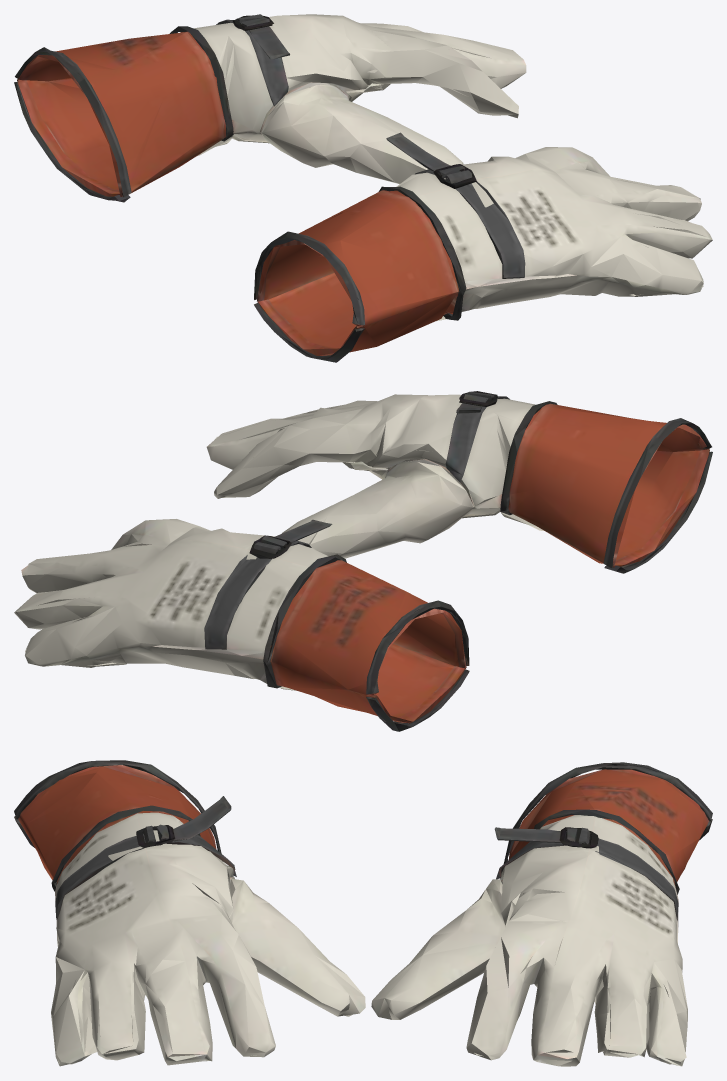
Rendered from p_gloves.glb.
3 renders of one model, top to bottom at view 1: azimuth 30°, elevation 25°; view 2: azimuth 150°, elevation 25°; view 3: azimuth 270°, elevation 25°, orthographic. The views are drawn at different scales.
Parts seen in each view (by area): view 1: p_gloves_mesh; view 2: p_gloves_mesh; view 3: p_gloves_mesh.
Part boxes in pixels (x1,y1,x2,y2): p_gloves_mesh: (14,14,712,362); p_gloves_mesh: (14,391,712,731); p_gloves_mesh: (14,760,712,1066).
Size of the model in its own units: 0.2901 by 0.098 by 0.3936.
Materials: 1 (1 with a texture image).
